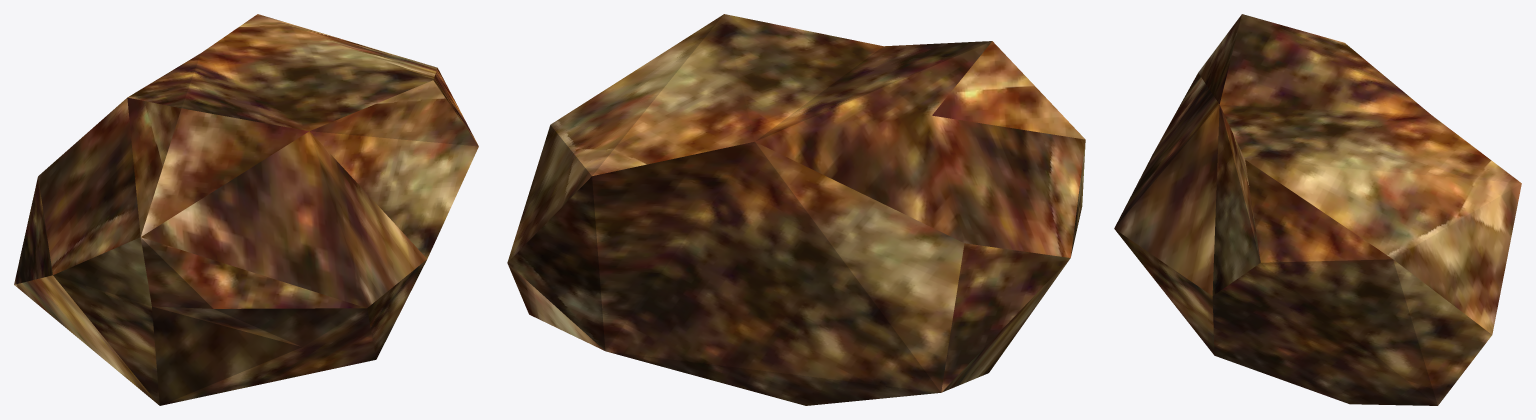
Rendered from CRAFT_BRYLKA_ZELAZO.glb.
The picture shows the model from 3 angles, left to right: view 1: azimuth 30°, elevation 25°; view 2: azimuth 150°, elevation 25°; view 3: azimuth 270°, elevation 25°; orthographic projection. The views are drawn at different scales.
Parts seen in each view (by area): view 1: CRAFT_BRYLKA_ZELAZO; view 2: CRAFT_BRYLKA_ZELAZO; view 3: CRAFT_BRYLKA_ZELAZO.
Boxes of the visible parts, x1=… form: CRAFT_BRYLKA_ZELAZO: x1=14, y1=14, x2=478, y2=405; CRAFT_BRYLKA_ZELAZO: x1=507, y1=14, x2=1085, y2=405; CRAFT_BRYLKA_ZELAZO: x1=1114, y1=14, x2=1521, y2=405.
Bounding box in the file's own units: 0.1324 × 0.0876 × 0.1157.
Materials: 1 (1 with a texture image).
